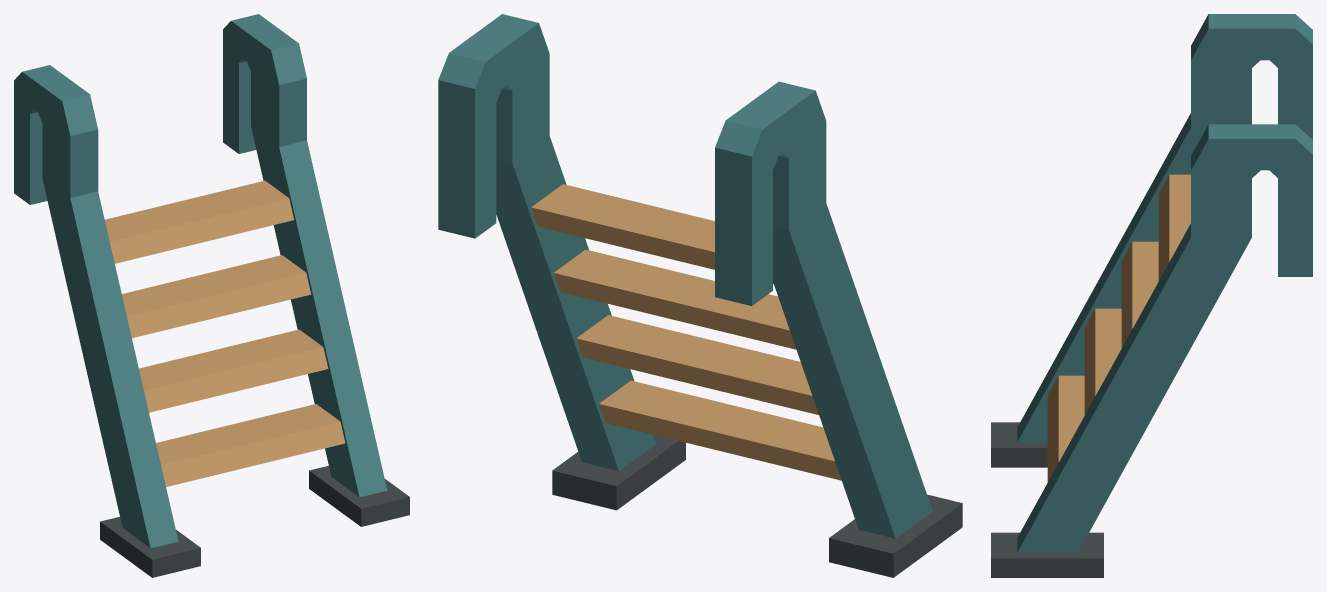
3 renders of one model, left to right at view 1: azimuth 30°, elevation 25°; view 2: azimuth 150°, elevation 25°; view 3: azimuth 270°, elevation 25°, orthographic. The views are drawn at different scales.
Visible parts, largest first — view 1: ContinuousReturnHookRail_Left, ContinuousReturnHookRail_Right, WholeThickHorizontalTread_02, WholeThickHorizontalTread_03, WholeThickHorizontalTread_04, WholeThickHorizontalTread_01, FlatGroundPad_Left, FlatGroundPad_Right; view 2: ContinuousReturnHookRail_Left, ContinuousReturnHookRail_Right, WholeThickHorizontalTread_01, WholeThickHorizontalTread_02, WholeThickHorizontalTread_03, WholeThickHorizontalTread_04, FlatGroundPad_Left, FlatGroundPad_Right; view 3: ContinuousReturnHookRail_Right, ContinuousReturnHookRail_Left, FlatGroundPad_Right, WholeThickHorizontalTread_01, WholeThickHorizontalTread_02, WholeThickHorizontalTread_03, WholeThickHorizontalTread_04, FlatGroundPad_Left.
Part boxes in pixels (left/top/right/bottom): ContinuousReturnHookRail_Left: left=14, top=65, right=178, bottom=548; ContinuousReturnHookRail_Right: left=223, top=14, right=387, bottom=497; WholeThickHorizontalTread_02: left=139, top=329, right=328, bottom=412; WholeThickHorizontalTread_03: left=122, top=255, right=311, bottom=338; WholeThickHorizontalTread_04: left=105, top=180, right=293, bottom=263; WholeThickHorizontalTread_01: left=156, top=404, right=345, bottom=486; FlatGroundPad_Left: left=100, top=516, right=200, bottom=577; FlatGroundPad_Right: left=309, top=465, right=409, bottom=526; ContinuousReturnHookRail_Left: left=715, top=81, right=932, bottom=538; ContinuousReturnHookRail_Right: left=438, top=14, right=655, bottom=471; WholeThickHorizontalTread_01: left=599, top=380, right=841, bottom=480; WholeThickHorizontalTread_02: left=576, top=315, right=818, bottom=414; WholeThickHorizontalTread_03: left=554, top=249, right=796, bottom=349; WholeThickHorizontalTread_04: left=531, top=184, right=773, bottom=284; FlatGroundPad_Left: left=829, top=494, right=962, bottom=577; FlatGroundPad_Right: left=552, top=434, right=685, bottom=510; ContinuousReturnHookRail_Right: left=1017, top=124, right=1312, bottom=552; ContinuousReturnHookRail_Left: left=1017, top=14, right=1312, bottom=442; FlatGroundPad_Right: left=991, top=532, right=1103, bottom=577; WholeThickHorizontalTread_01: left=1047, top=375, right=1084, bottom=482; WholeThickHorizontalTread_02: left=1084, top=308, right=1121, bottom=414; WholeThickHorizontalTread_03: left=1121, top=241, right=1158, bottom=347; WholeThickHorizontalTread_04: left=1158, top=174, right=1190, bottom=280; FlatGroundPad_Left: left=991, top=422, right=1047, bottom=467.
Bounding box in the file's own units: 0.74 × 1.1 × 0.74.
